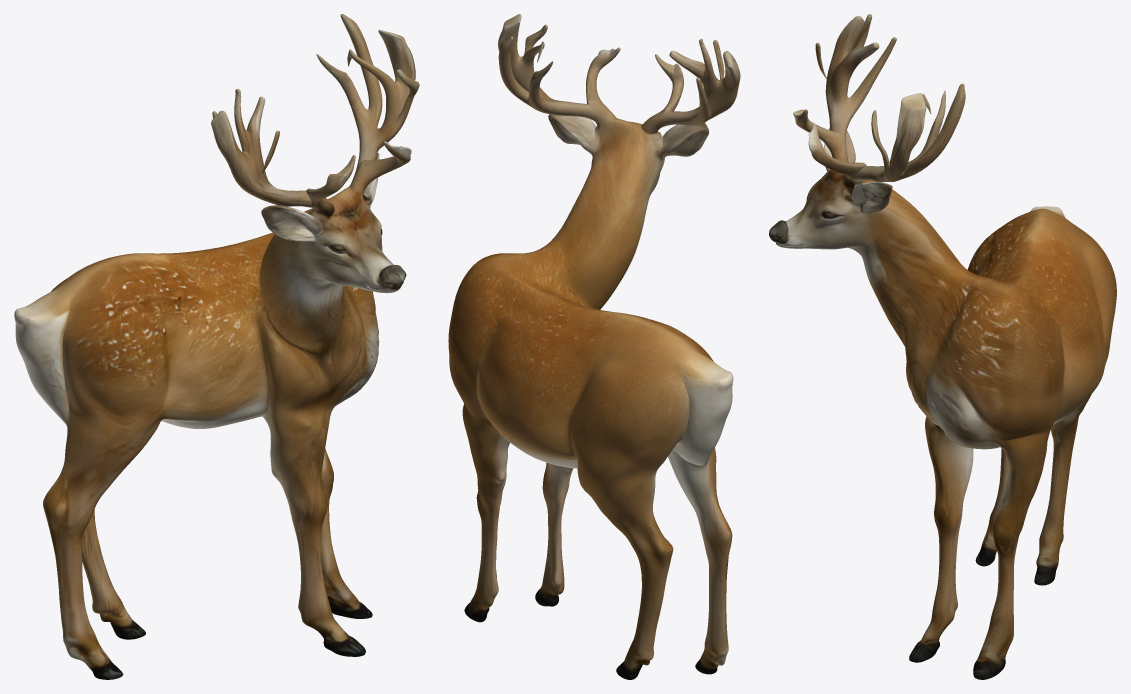
The model's file is source.glb.
The picture shows the model from 3 angles, left to right: view 1: azimuth 30°, elevation 25°; view 2: azimuth 150°, elevation 25°; view 3: azimuth 270°, elevation 25°; orthographic projection. The views are drawn at different scales.
Parts seen in each view (by area): view 1: model; view 2: model; view 3: model.
Boxes of the visible parts, x1,y1,x2,y2 form: model: (14,14,419,679); model: (448,14,740,679); model: (769,14,1116,679).
Size of the model in its own units: 1.03 by 1.9 by 1.03.
Materials: 1 (1 with a texture image).
